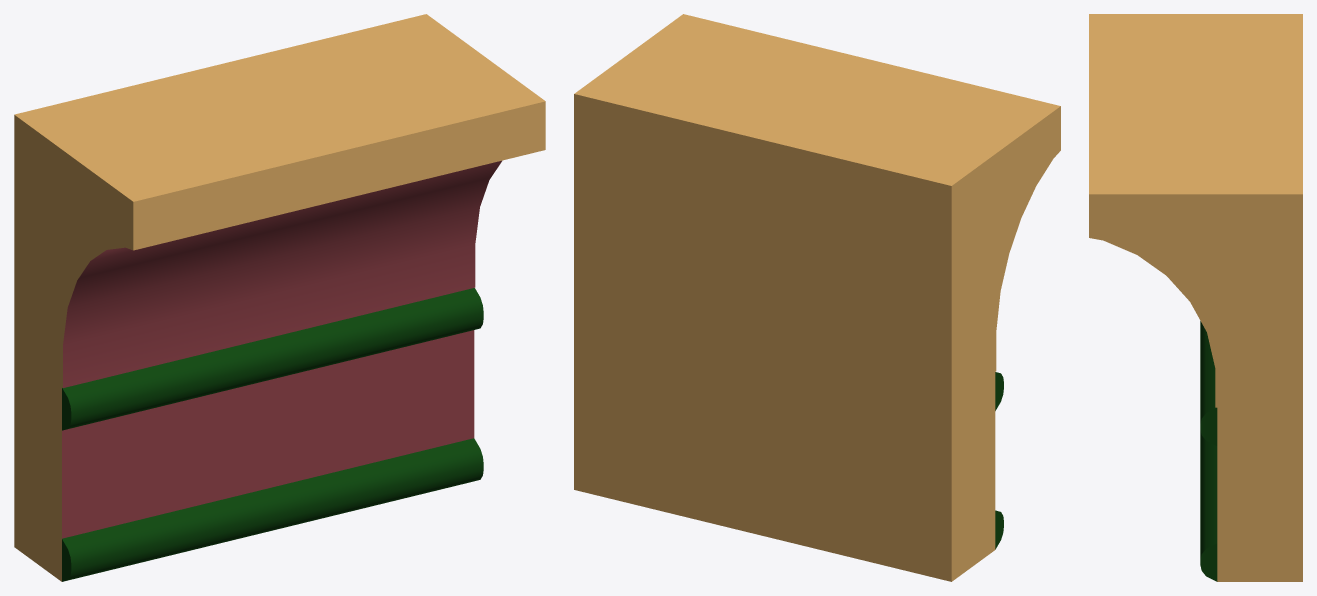
The model's file is Desert_Architrav.fbx.
3 views of the same model, side by side, from view 1: azimuth 30°, elevation 25°; view 2: azimuth 150°, elevation 25°; view 3: azimuth 270°, elevation 25° (orthographic). The views are drawn at different scales.
Visible parts, largest first — view 1: Desert_Doppeltrim_low.006; view 2: Desert_Doppeltrim_low.006; view 3: Desert_Doppeltrim_low.006.
Boxes of the visible parts, <box> form: Desert_Doppeltrim_low.006: <box>14,14,545,581</box>; Desert_Doppeltrim_low.006: <box>574,14,1060,581</box>; Desert_Doppeltrim_low.006: <box>1089,14,1302,581</box>.
Bounding box in the file's own units: 2 × 2 × 1.
